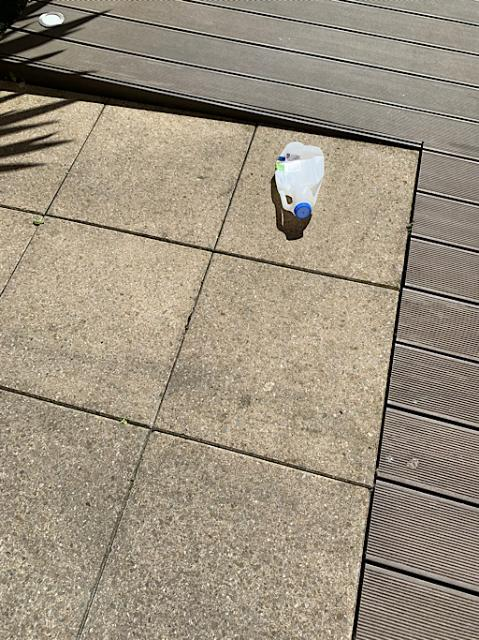plastic: (275, 141, 322, 217)
